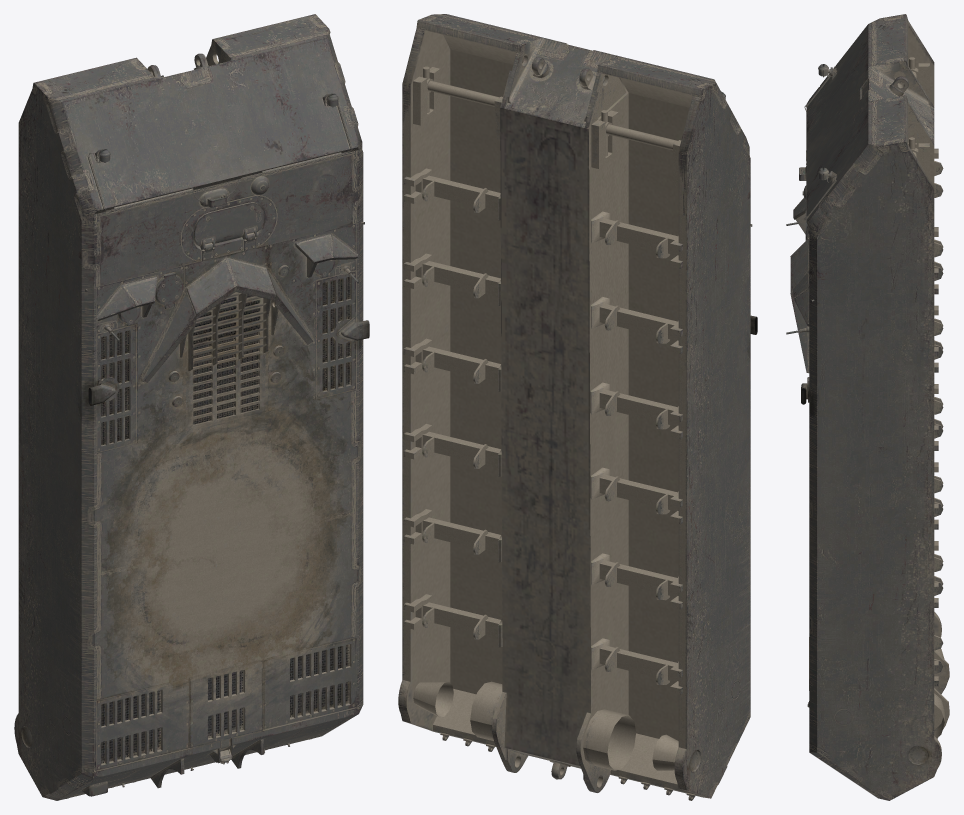
Rendered from Hull.glb.
3 renders of one model, left to right at view 1: azimuth 30°, elevation 25°; view 2: azimuth 150°, elevation 25°; view 3: azimuth 270°, elevation 25°, orthographic. The views are drawn at different scales.
Visible parts, largest first — view 1: set_0_group_0; view 2: set_0_group_0; view 3: set_0_group_0.
Boxes of the visible parts, box(x1,y1,x2,y2) form: set_0_group_0: box(14, 14, 369, 800); set_0_group_0: box(398, 14, 757, 800); set_0_group_0: box(786, 14, 949, 800).
Bounding box in the file's own units: 3.72 × 9.04 × 2.01.
1 material, 1 textured.
